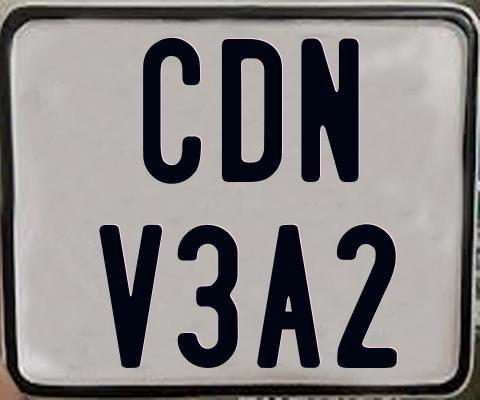2: (336, 222, 398, 366)
3: (176, 224, 242, 368)
A: (255, 223, 321, 371)
C: (141, 37, 201, 189)
D: (221, 38, 284, 183)
N: (301, 35, 362, 184)
V: (98, 224, 163, 372)
